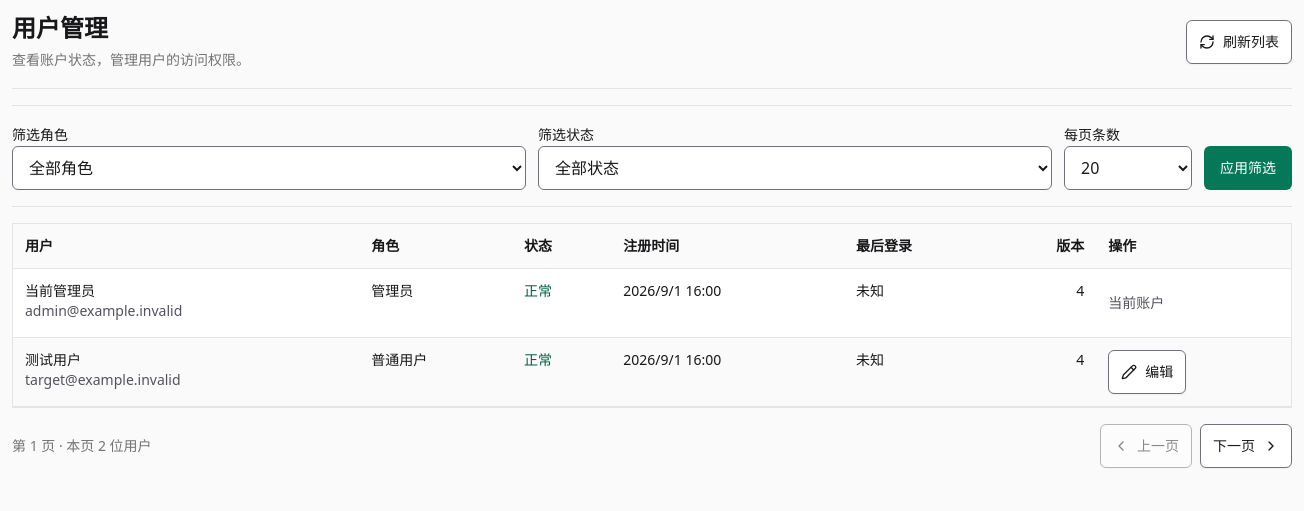
admin/users client › uses opaque next/previous cursors and clears pagination when applying role/status/page-size filters
This screenshot has width=1304, height=511.
Check: the text "第 1 页 · 本页 2 位用户" is shown, box [12,436,152,456]
Click the button "下一页" at (1246, 446), box [1200,424,1292,468]
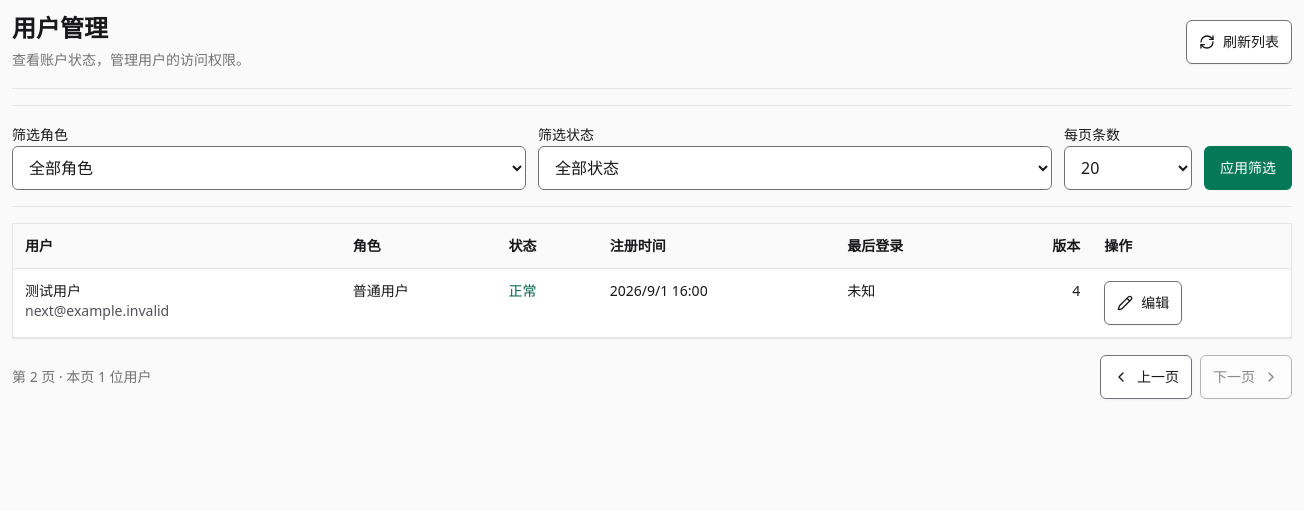
Check: the text "第 2 页 · 本页 1 位用户" is shown, box [12,367,152,387]
Click the button "上一页" at (1146, 377), box [1100,355,1192,399]
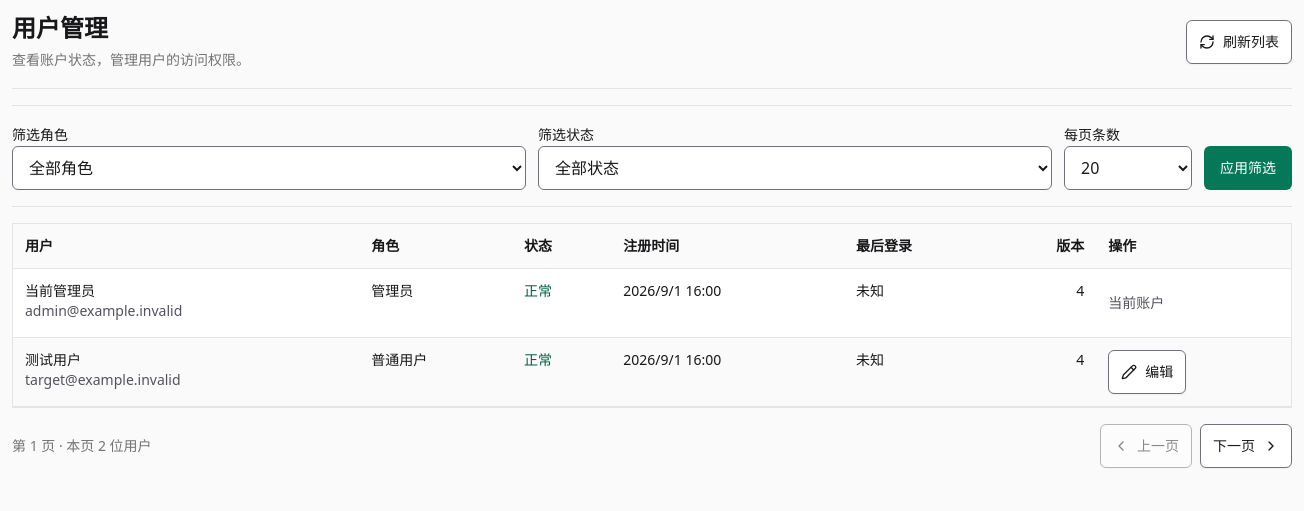
Check: the text "第 1 页 · 本页 2 位用户" is shown, box [12,436,152,456]
Select "管理员" in the dropdown labelled "筛选角色" at (269, 168), box [12,146,526,190]
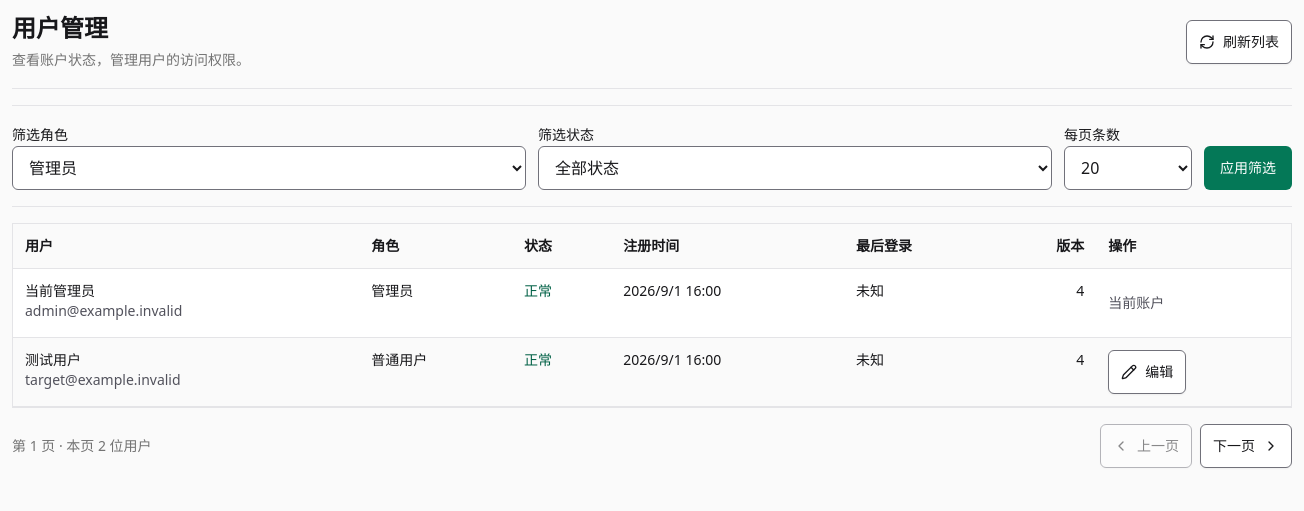
Select "已禁用" in the dropdown labelled "筛选状态" at (795, 168), box [538,146,1052,190]
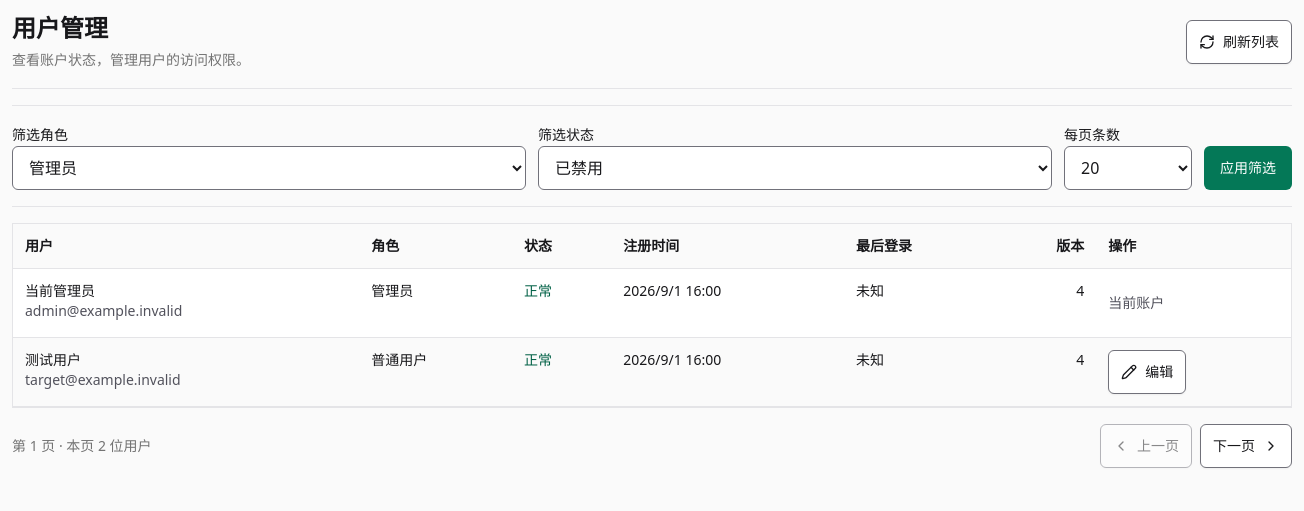
Select "50" in the dropdown labelled "每页条数" at (1128, 168), box [1064,146,1192,190]
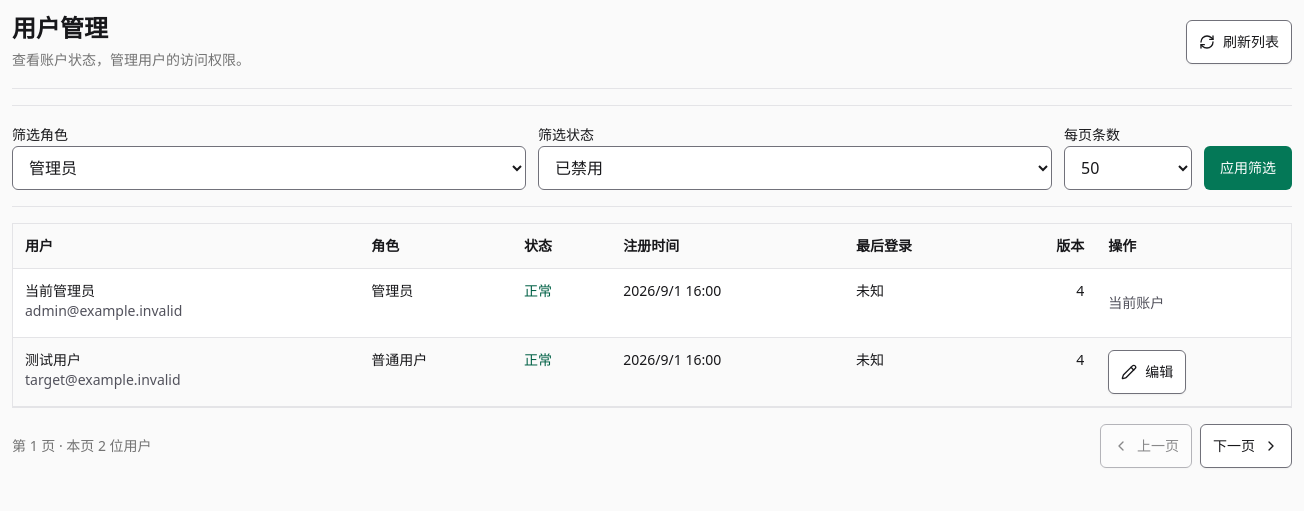
Submit the form named "筛选用户", box [12,105,1292,207]
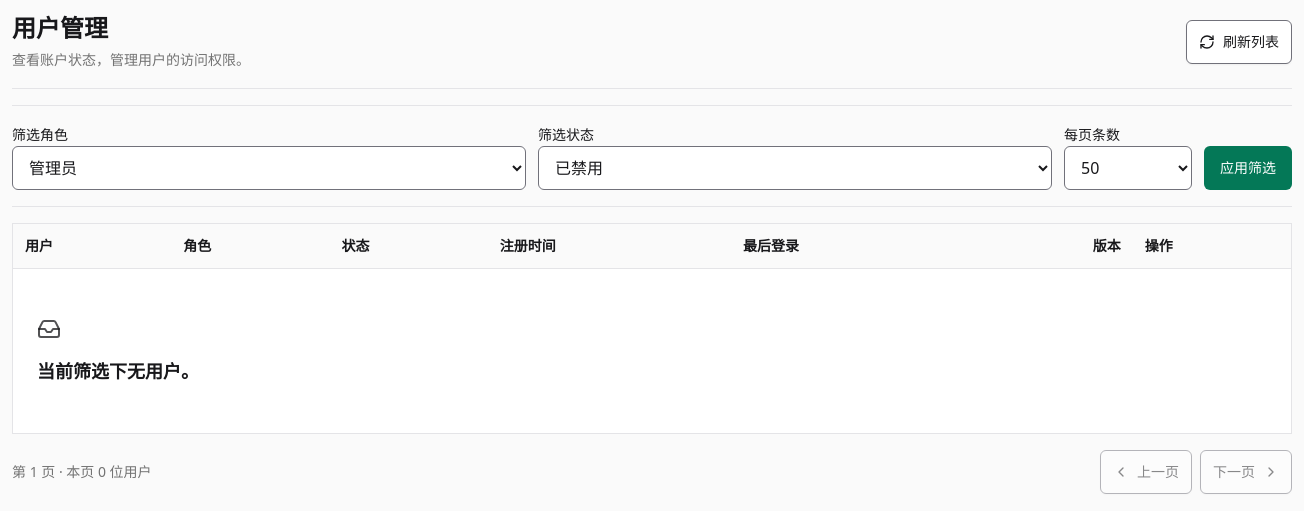
Check: the text "第 1 页 · 本页 0 位用户" is shown, box [12,462,152,482]
